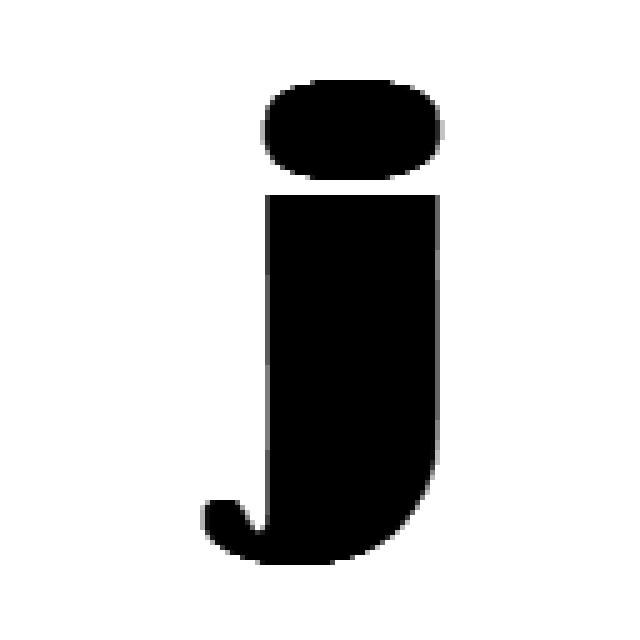J: (195, 70, 450, 570)
